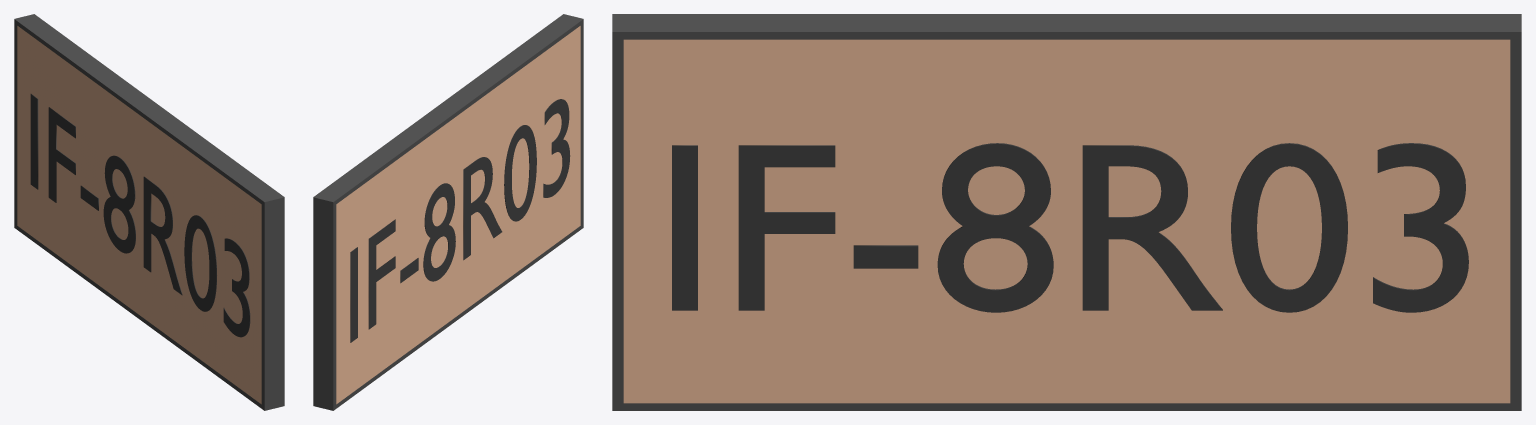
3 views of the same model, side by side, from view 1: azimuth 30°, elevation 25°; view 2: azimuth 150°, elevation 25°; view 3: azimuth 270°, elevation 25° (orthographic). The views are drawn at different scales.
Visible parts, largest first — view 1: Cube, Text.001; view 2: Cube, Text.001; view 3: Cube, Text.
Part boxes in pixels (x1,y1,x2,y2): Cube: [14, 14, 284, 410]; Text.001: [30, 94, 250, 337]; Cube: [313, 14, 583, 410]; Text.001: [350, 99, 570, 342]; Cube: [612, 14, 1521, 410]; Text: [672, 143, 1468, 312].
Size of the model in its own units: 11.44 by 105 by 229.
